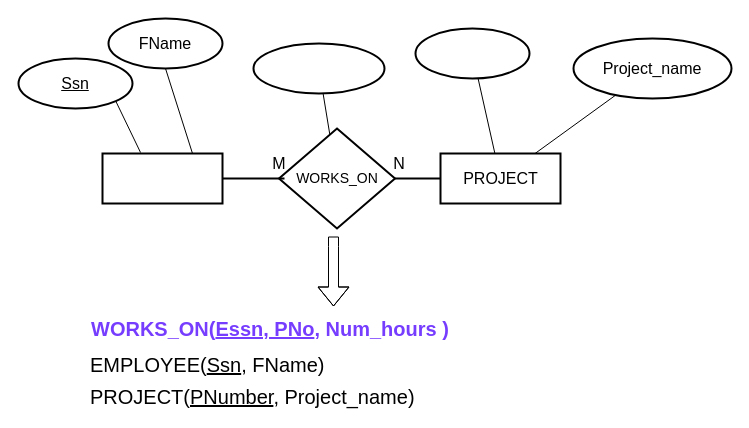
Some shapes in this 749 by 428 pixel diagram are drawn without their labels. Here are the shapes that lost their labels. From the top down, the centre of each, then its label:
(318,68): Num_hours
(472,53): PNumber
(162,178): EMPLOYEE
